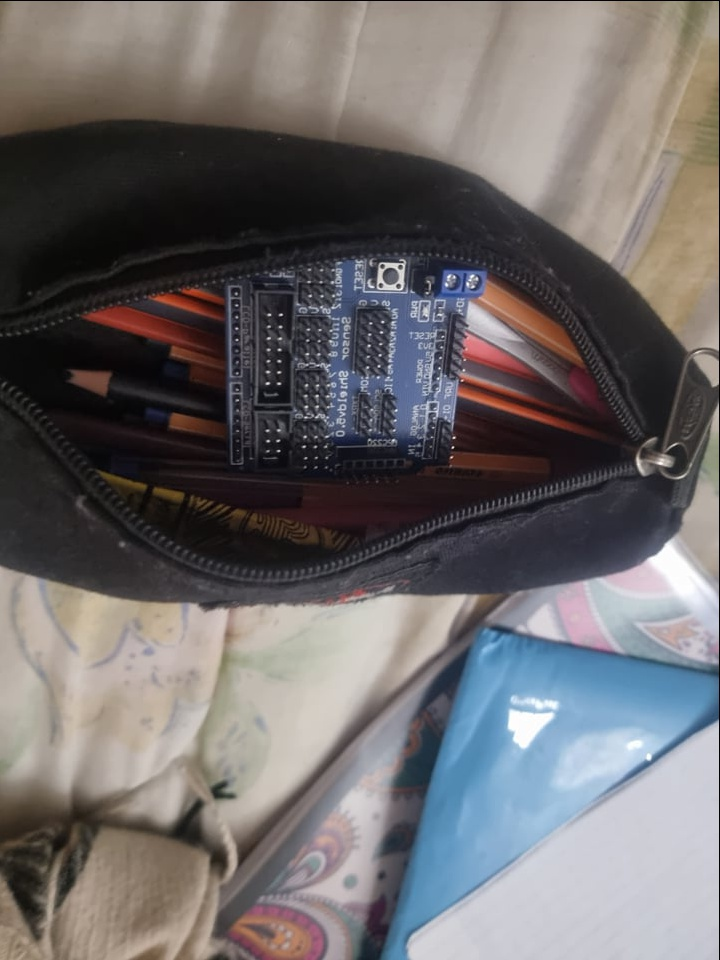5V EXPANSION: (220, 252, 490, 475)
